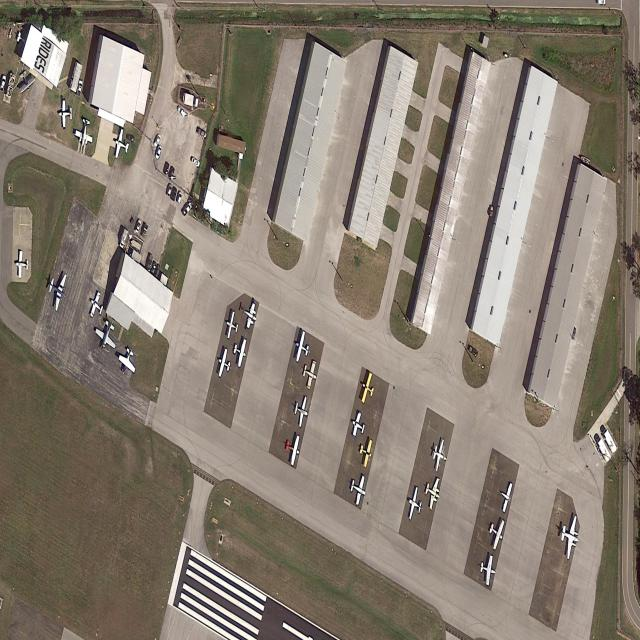large-vehicle: (118, 228, 129, 250), (146, 254, 153, 272)
plane: (44, 265, 70, 315), (558, 510, 582, 563), (93, 311, 121, 356), (421, 472, 443, 514), (485, 512, 507, 554), (239, 295, 261, 336), (405, 484, 426, 526), (347, 470, 369, 509), (116, 343, 139, 380), (292, 328, 313, 368), (73, 114, 96, 150), (430, 435, 450, 476), (282, 429, 303, 468), (299, 355, 320, 393), (358, 370, 378, 408), (291, 391, 310, 430), (112, 127, 132, 164), (478, 551, 498, 588), (230, 334, 249, 370), (16, 65, 37, 97), (215, 346, 233, 381), (87, 289, 106, 322), (357, 435, 374, 470), (497, 479, 514, 514), (224, 309, 241, 342), (15, 28, 34, 57), (350, 409, 367, 441), (59, 99, 73, 129), (16, 250, 29, 279)
ship: (580, 156, 590, 165)
small-vehicle: (182, 201, 193, 218), (197, 127, 208, 140), (177, 105, 187, 119), (141, 222, 149, 239), (77, 80, 84, 98), (155, 145, 163, 160), (168, 166, 175, 182), (153, 134, 161, 148), (469, 346, 478, 358), (191, 157, 200, 169), (135, 219, 142, 234), (166, 183, 173, 198), (163, 161, 170, 175), (176, 191, 183, 205), (0, 76, 6, 92), (154, 265, 160, 279), (127, 133, 135, 143), (171, 188, 177, 201), (151, 262, 157, 274)
